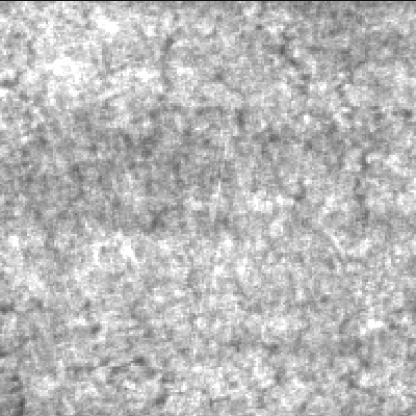crazing: (92, 23, 410, 229), (0, 18, 106, 408)
